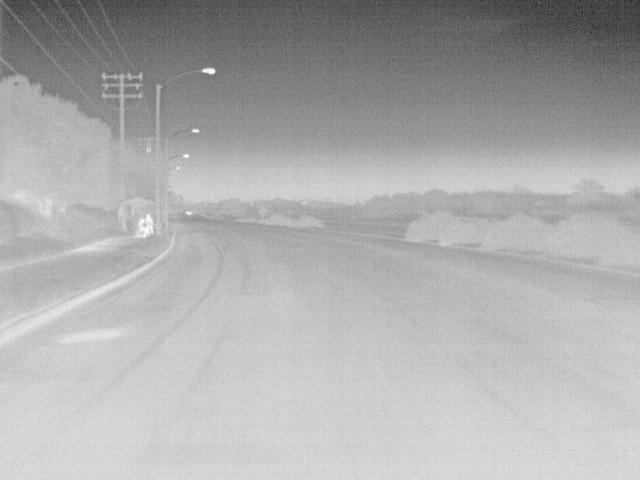person: (144, 213, 157, 232), (138, 218, 150, 236)
